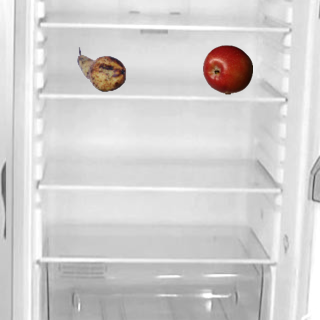Apple Braeburn: (202, 44, 252, 94)
Pear Abate: (76, 44, 126, 94)
